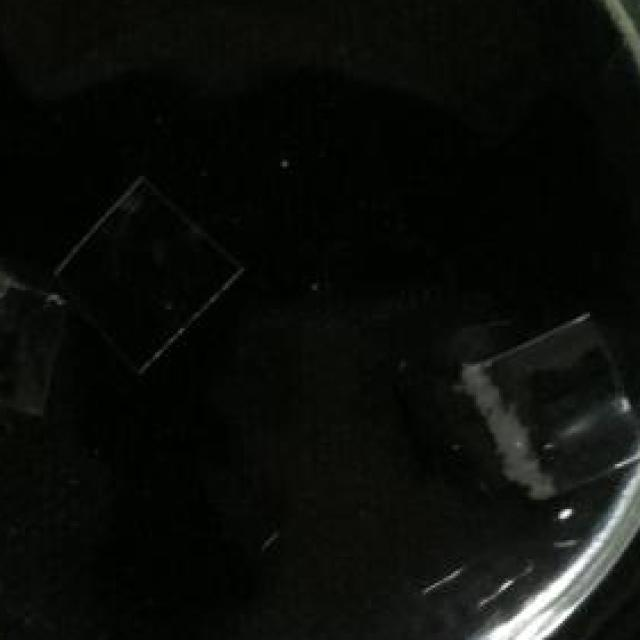Microplastic: (52, 174, 248, 380), (453, 307, 640, 502), (0, 259, 68, 421)
